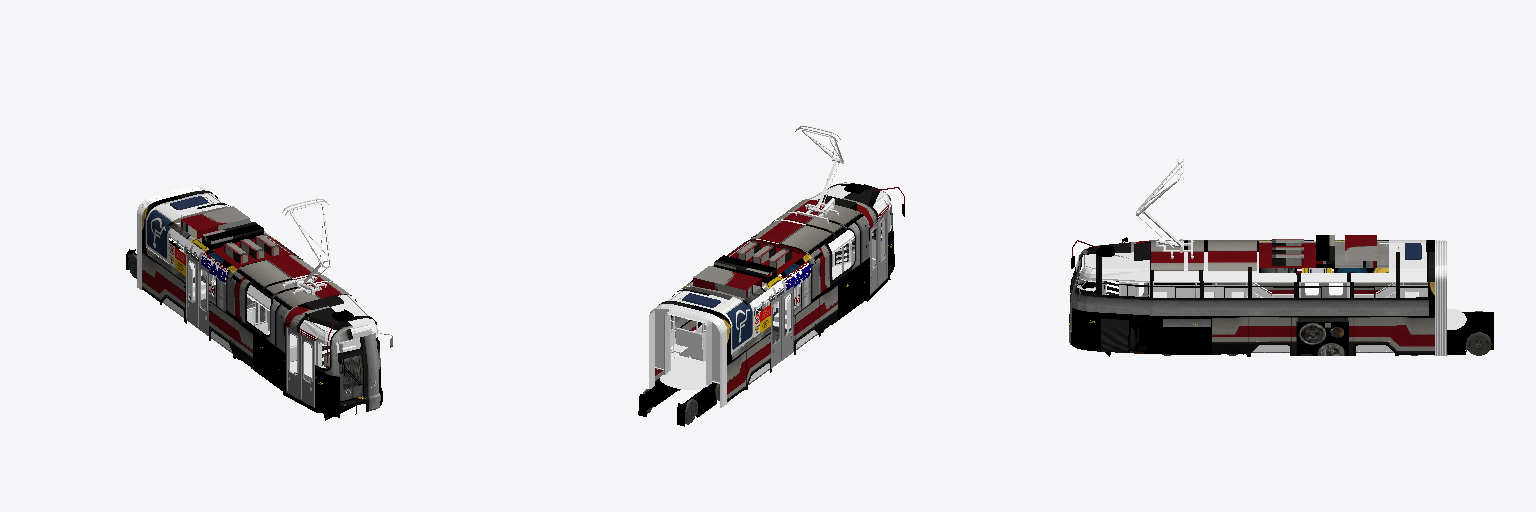
3 views of the same model, side by side, from view 1: azimuth 30°, elevation 25°; view 2: azimuth 150°, elevation 25°; view 3: azimuth 270°, elevation 25° (orthographic).
Visible parts, largest first — view 1: EXT, INT; view 2: EXT, INT; view 3: EXT, INT.
Part boxes in pixels (x1,y1,x2,y2): EXT: (126,190,392,420); INT: (137,186,378,392); EXT: (638,126,904,426); INT: (649,182,891,407); EXT: (1069,159,1493,356); INT: (1075,240,1466,355).
Bounding box in the file's own units: 2.56 × 5.82 × 12.63.
21 materials, 6 textured.